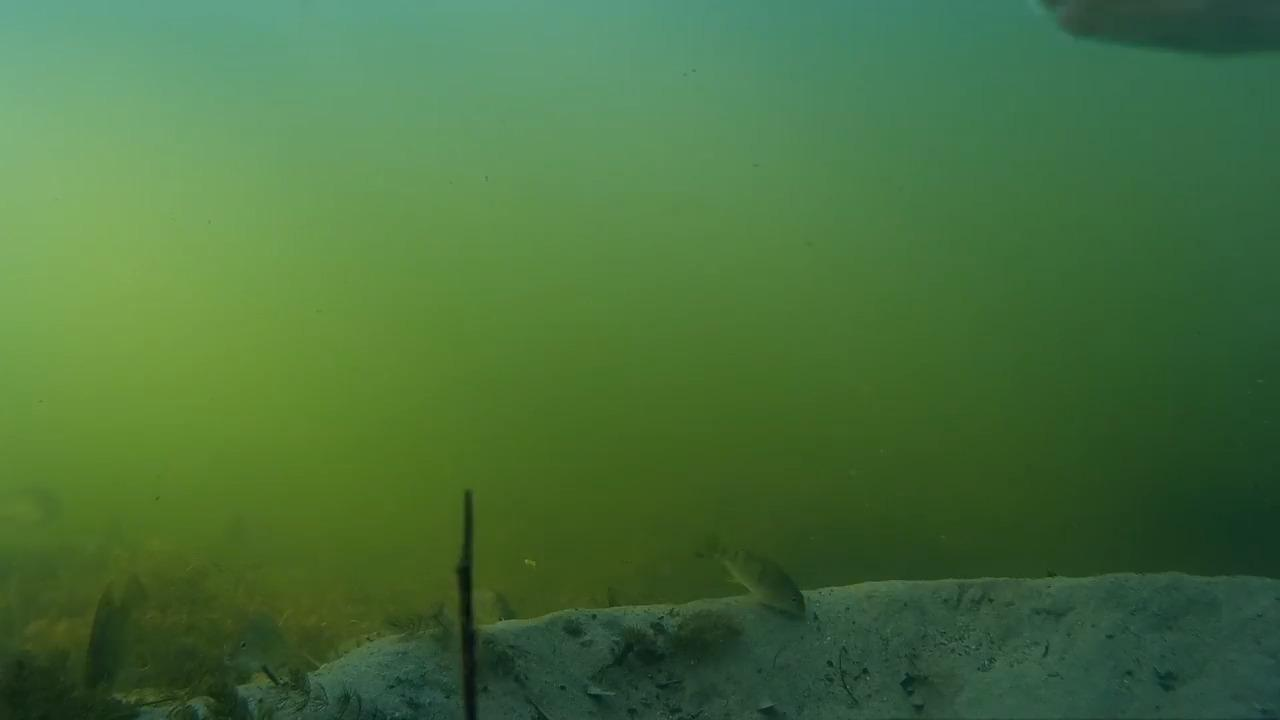Tilapia: (63, 578, 171, 706), (688, 534, 809, 630), (209, 604, 307, 676), (466, 578, 515, 634)
